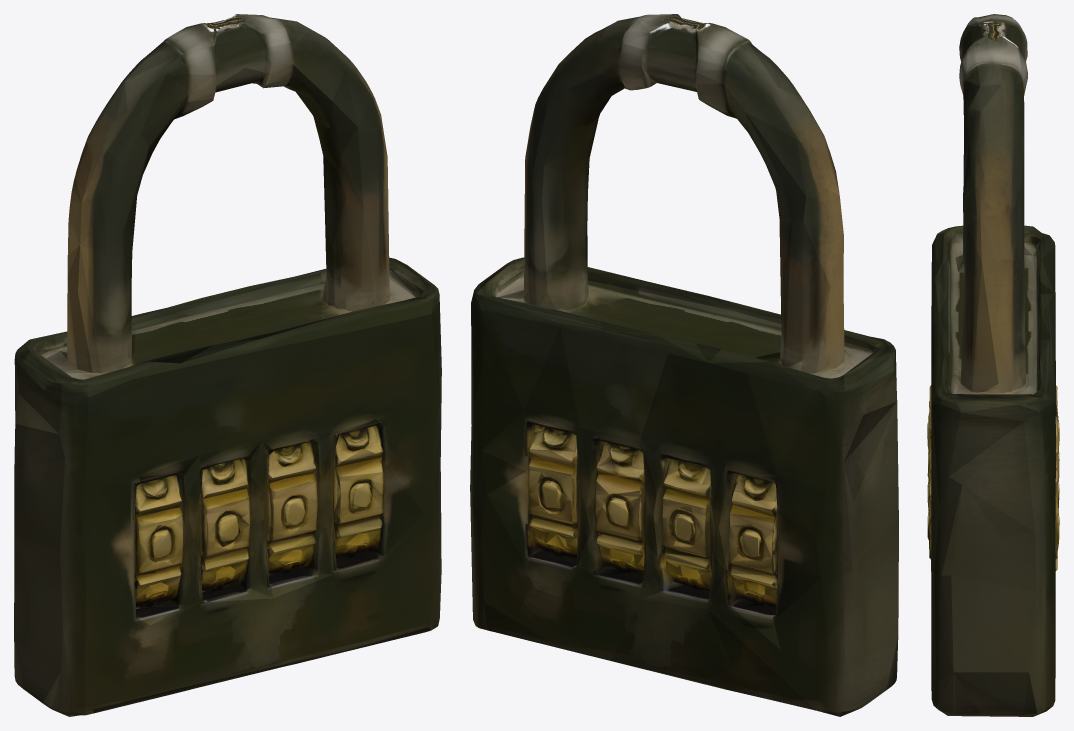
Rendered from Combination%20Lock.fbx.
3 renders of one model, left to right at view 1: azimuth 30°, elevation 25°; view 2: azimuth 150°, elevation 25°; view 3: azimuth 270°, elevation 25°, orthographic. The views are drawn at different scales.
Visible parts, largest first — view 1: node_0; view 2: node_0; view 3: node_0.
Boxes of the visible parts, box(x1,y1,x2,y2) form: node_0: box(14, 14, 441, 716); node_0: box(470, 14, 898, 716); node_0: box(927, 14, 1059, 716).
Bounding box in the file's own units: 0.5649 × 0.875 × 0.1742.
Materials: 1 (1 with a texture image).
